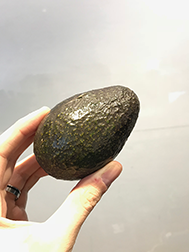avocado: (31, 77, 140, 179)
